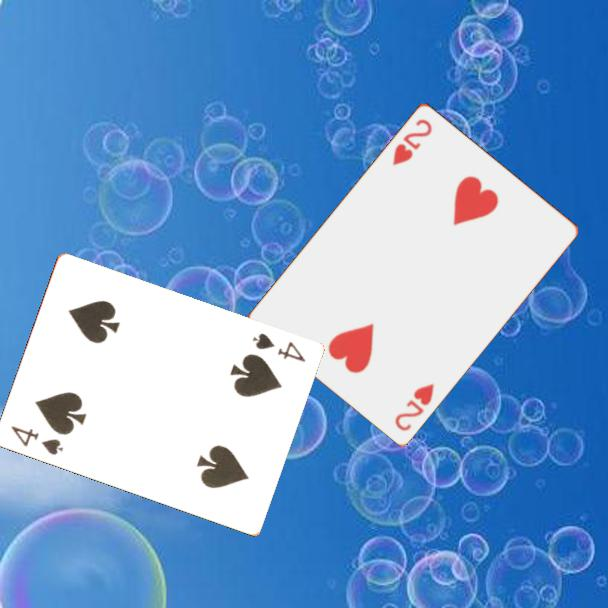h02: (391, 379, 437, 434), (389, 115, 435, 168)
s04: (7, 422, 66, 458), (249, 330, 308, 365)
